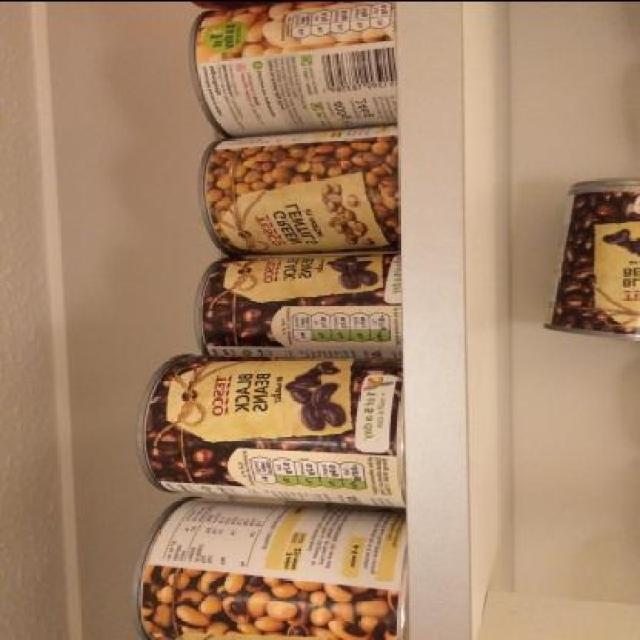metal: (134, 351, 408, 507), (126, 496, 409, 638), (187, 0, 403, 138), (195, 122, 410, 256), (195, 252, 407, 354), (543, 177, 639, 340)
